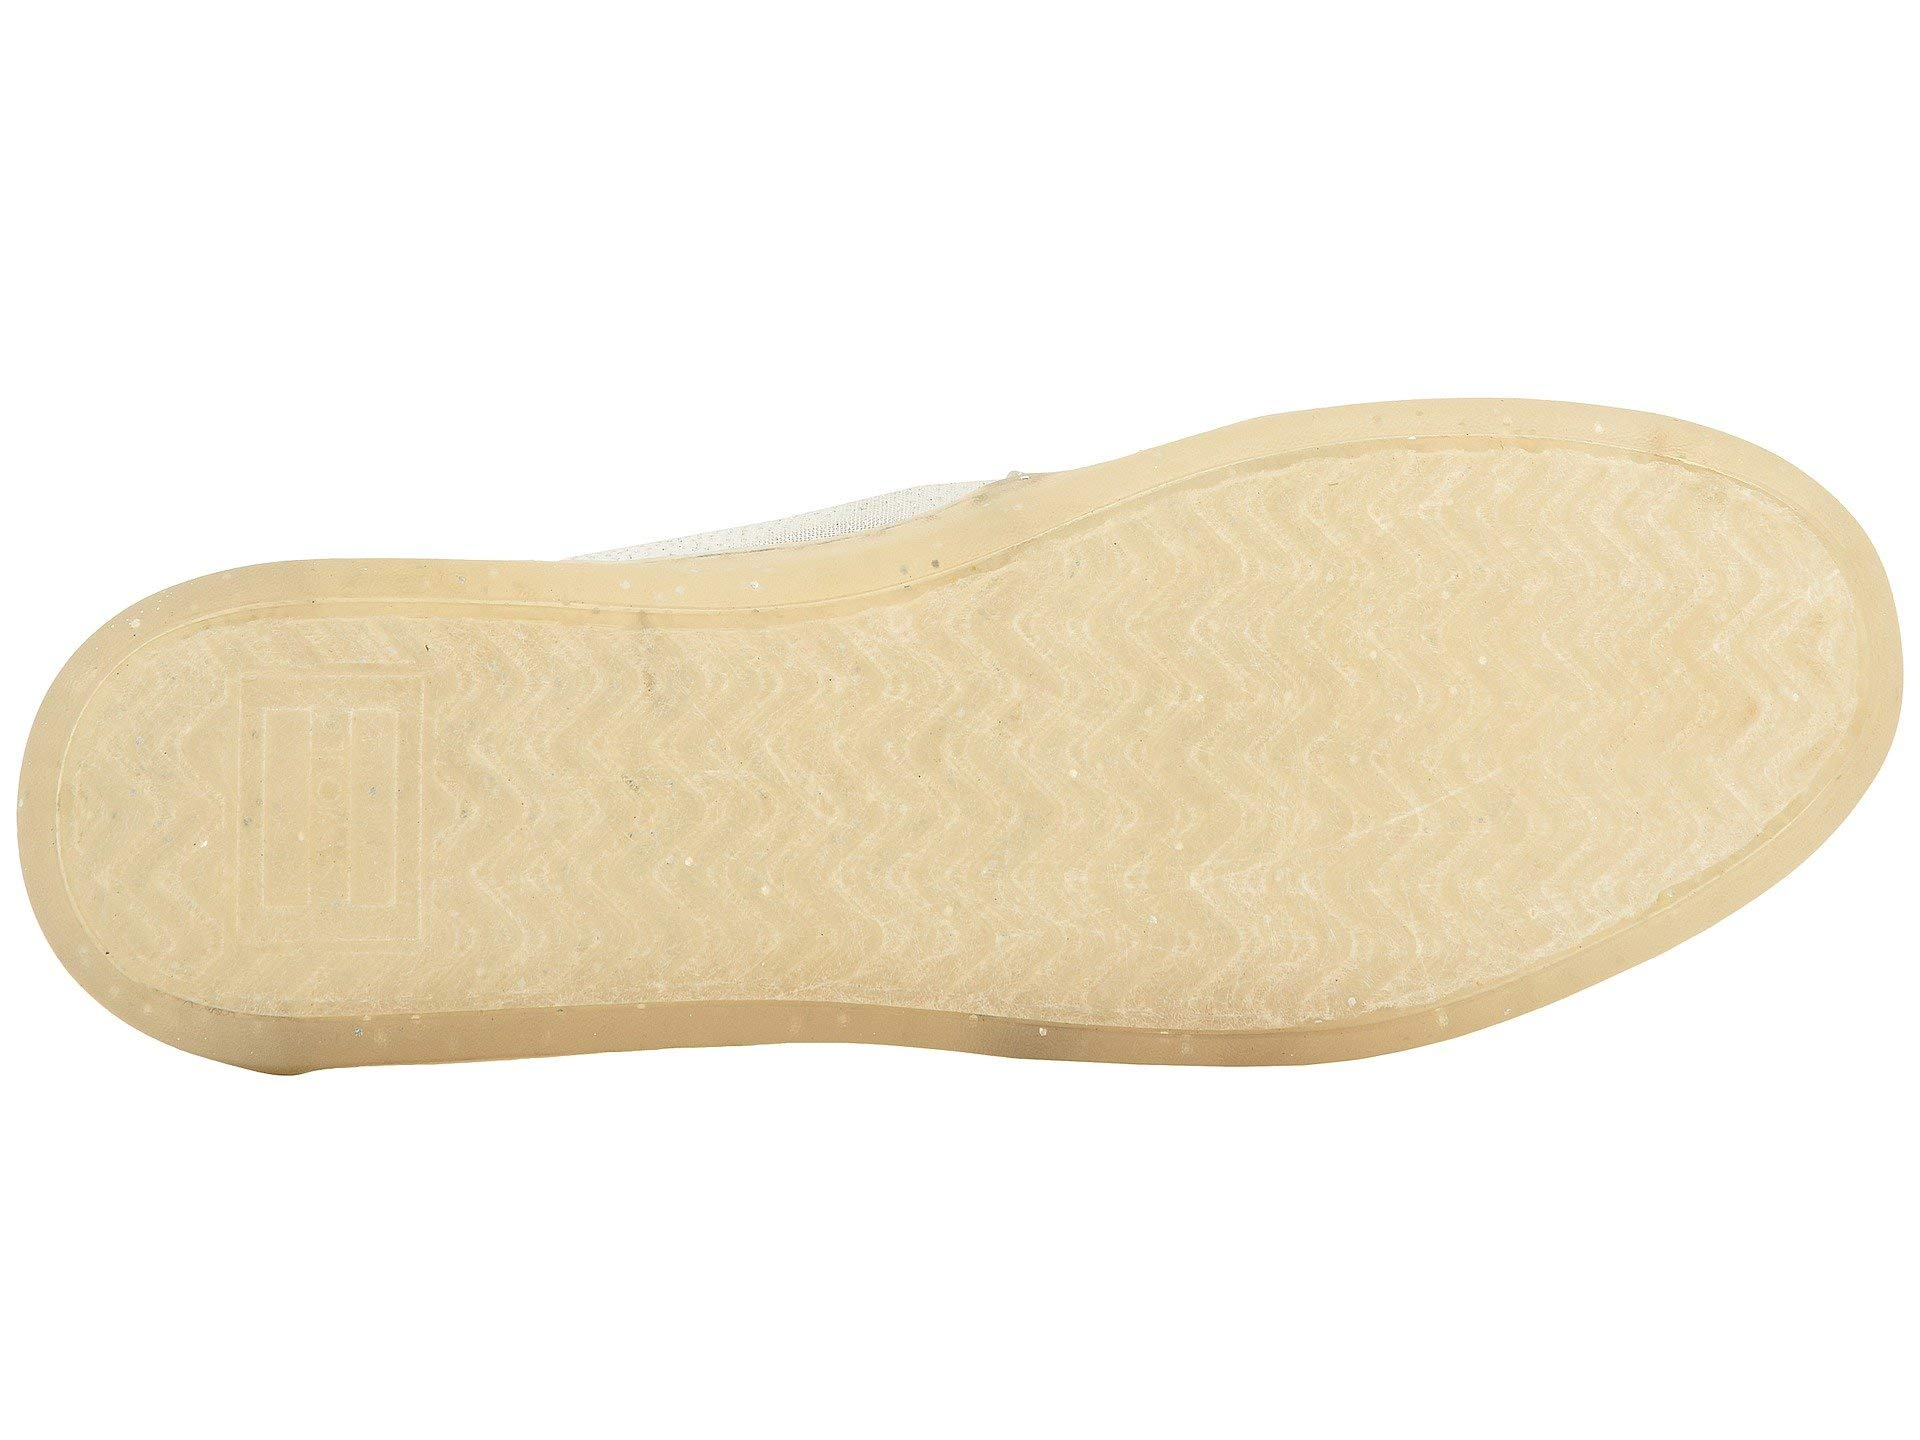chevron: (444, 622, 1442, 1006), (1480, 483, 1757, 911), (94, 672, 206, 983)
quad: (213, 666, 447, 979)
